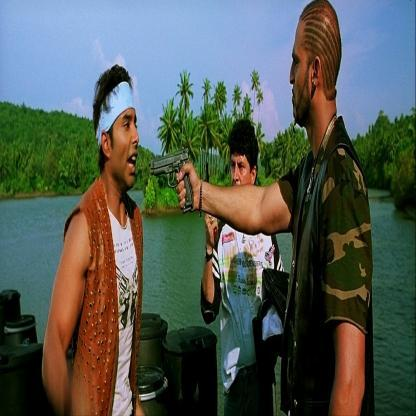gun: (143, 136, 202, 227)
